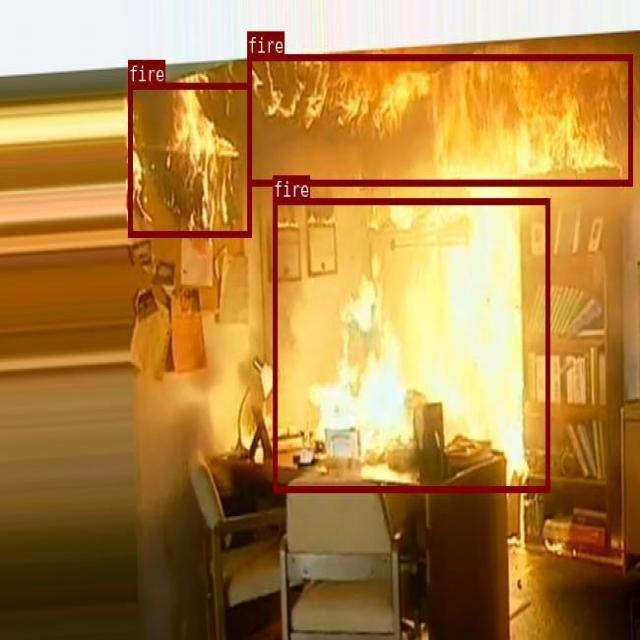fire: (272, 197, 549, 492), (246, 54, 632, 184), (128, 82, 250, 237)
